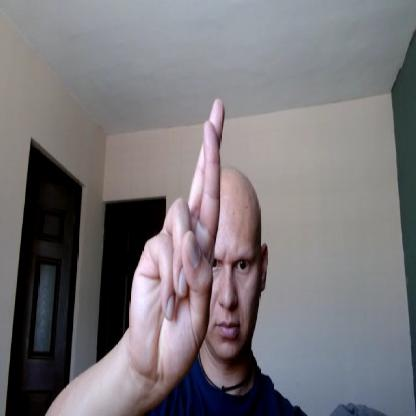R: (128, 97, 228, 387)
